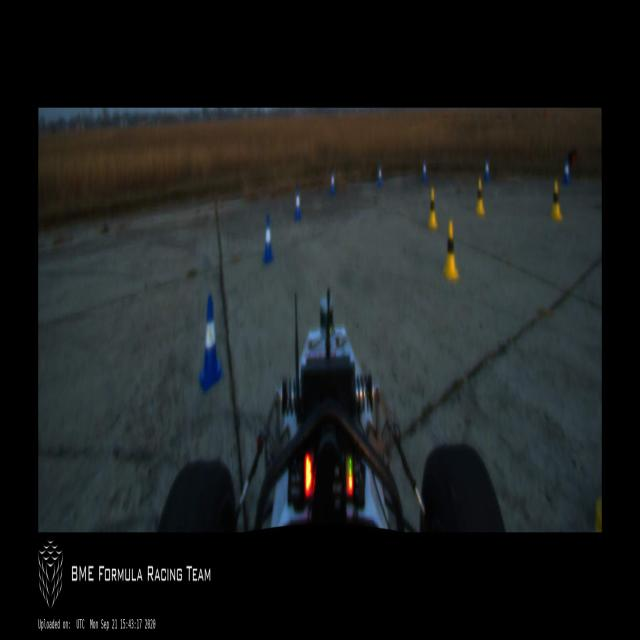blue_cone: (199, 294, 223, 391), (262, 215, 274, 263), (294, 188, 301, 220), (563, 160, 570, 185), (330, 170, 336, 195), (484, 157, 490, 181), (422, 159, 427, 182), (378, 163, 382, 187)
yellow_cone: (444, 220, 459, 280), (551, 181, 562, 221), (428, 188, 438, 229), (476, 178, 485, 214)
